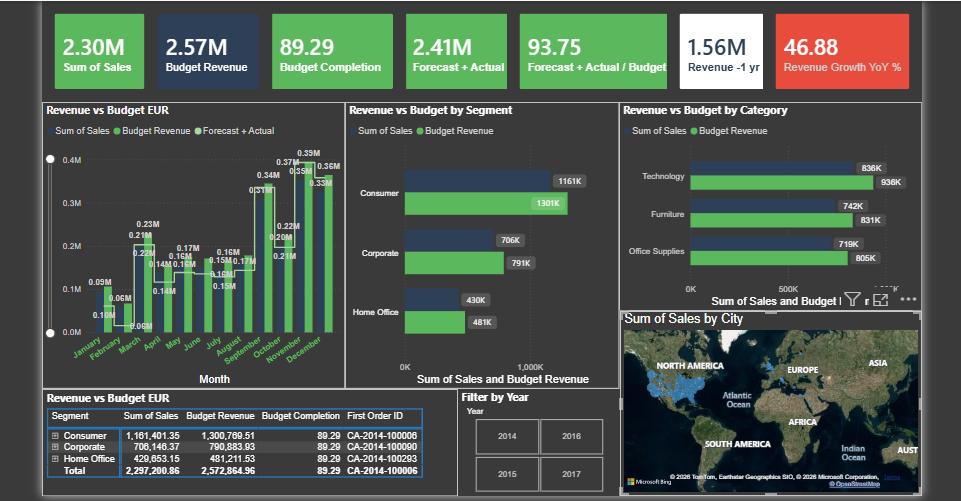

This screenshot's page, from the dashboard's own definition file:
{"tool":"powerbi","page":{"name":"Page 1","canvas":[1280,720],"ordinal":0},"visuals":[{"type":"cardVisual","title":"sales","fields":{"Data":["Sum(Sample - Superstore.Sales)"]},"box":[0,0,167.3,146.9],"z":0},{"type":"cardVisual","fields":{"Data":["Sample - Superstore.Forecast"]},"box":[509.1,0,192,146.9],"z":1000},{"type":"cardVisual","fields":{"Data":["Sample - Superstore.ForecastVsBudget%"]},"box":[676.4,0,260.4,146.9],"z":2000},{"type":"cardVisual","fields":{"Data":["Sample - Superstore.Completion%"]},"box":[315.6,0,213.8,146.9],"z":3000},{"type":"cardVisual","fields":{"Data":["Sample - Superstore.Budget"]},"box":[149.8,0,184.7,146.9],"z":4000},{"type":"cardVisual","fields":{"Data":["Sample - Superstore.RevenuePY"]},"box":[909.1,0,165.8,146.9],"z":5000},{"type":"cardVisual","fields":{"Data":["Sample - Superstore.YoY%"]},"box":[1048.7,0,231.3,146.9],"z":6000},{"type":"lineClusteredColumnComboChart","title":"Revenue vs Budget EUR","fields":{"Category":["Sample - Superstore.Order Date.Variation.Date Hierarchy.Month"],"Y":["Sum(Sample - Superstore.Sales)","Sample - Superstore.Budget Revenue"],"Y2":["Sample - Superstore.Forecast + Actual"]},"box":[0,146.9,440.7,417.5],"z":7000},{"type":"clusteredBarChart","title":"Revenue vs Budget by Segment","fields":{"Y":["Sum(Sample - Superstore.Sales)","Sample - Superstore.Budget Revenue"],"Category":["Sample - Superstore.Segment"]},"box":[440.7,146.9,398.5,417.5],"z":8000},{"type":"clusteredBarChart","title":"Revenue vs Budget by Category","fields":{"Category":["Sample - Superstore.Category"],"Y":["Sum(Sample - Superstore.Sales)","Sample - Superstore.Budget Revenue"]},"box":[839.3,146.9,440.7,417.5],"z":9000},{"type":"pivotTable","title":"Revenue vs Budget EUR","fields":{"Rows":["Sample - Superstore.Segment","Sample - Superstore.Category"],"Values":["Sum(Sample - Superstore.Sales)","Sample - Superstore.Budget Revenue","Sample - Superstore.Budget Completion","Min(Sample - Superstore.Order ID)"]},"box":[0,564.4,605.1,155.6],"z":10000},{"type":"slicer","title":"Filter by Year","fields":{"Values":["Sample - Superstore.Order Date.Variation.Date Hierarchy.Year"]},"box":[605,564,235,156],"z":11000},{"type":"map","fields":{"Size":["Sum(Sample - Superstore.Sales)"],"Category":["Sample - Superstore.City"]},"box":[840,564,440,156],"z":11001}]}

Visuals, with their boxes in screenshot pixels (x1, y1, x2, y2):
"sales" cardVisual: BBox(40, 0, 155, 101)
cardVisual - Sample - Superstore.Forecast: BBox(389, 0, 521, 101)
cardVisual - Sample - Superstore.ForecastVsBudget%: BBox(504, 0, 682, 101)
cardVisual - Sample - Superstore.Completion%: BBox(256, 0, 403, 101)
cardVisual - Sample - Superstore.Budget: BBox(143, 0, 269, 101)
cardVisual - Sample - Superstore.RevenuePY: BBox(663, 0, 777, 101)
cardVisual - Sample - Superstore.YoY%: BBox(759, 0, 918, 101)
"Revenue vs Budget EUR" lineClusteredColumnComboChart: BBox(40, 101, 342, 387)
"Revenue vs Budget by Segment" clusteredBarChart: BBox(342, 101, 615, 387)
"Revenue vs Budget by Category" clusteredBarChart: BBox(615, 101, 918, 387)
"Revenue vs Budget EUR" pivotTable: BBox(40, 387, 455, 494)
"Filter by Year" slicer: BBox(455, 387, 616, 494)
map - Sum(Sample - Superstore.Sales) x Sample - Superstore.City: BBox(616, 387, 918, 494)
